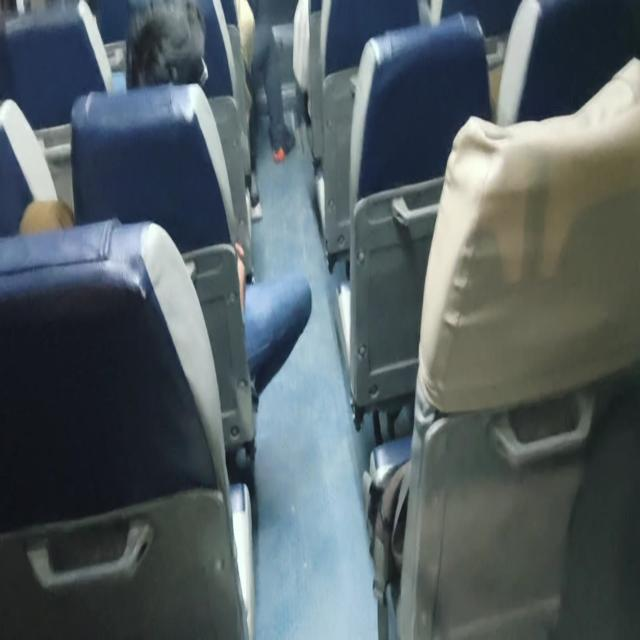person: (126, 0, 205, 116)
